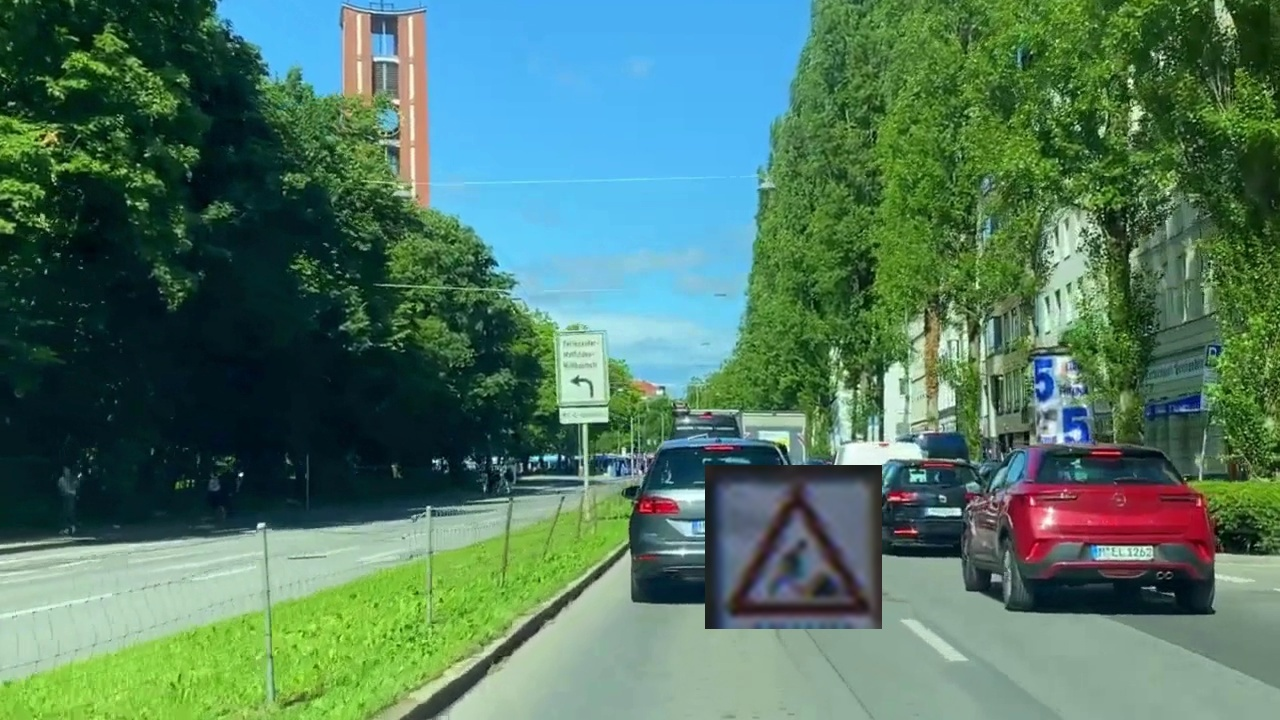Road work: (705, 465, 882, 629)
